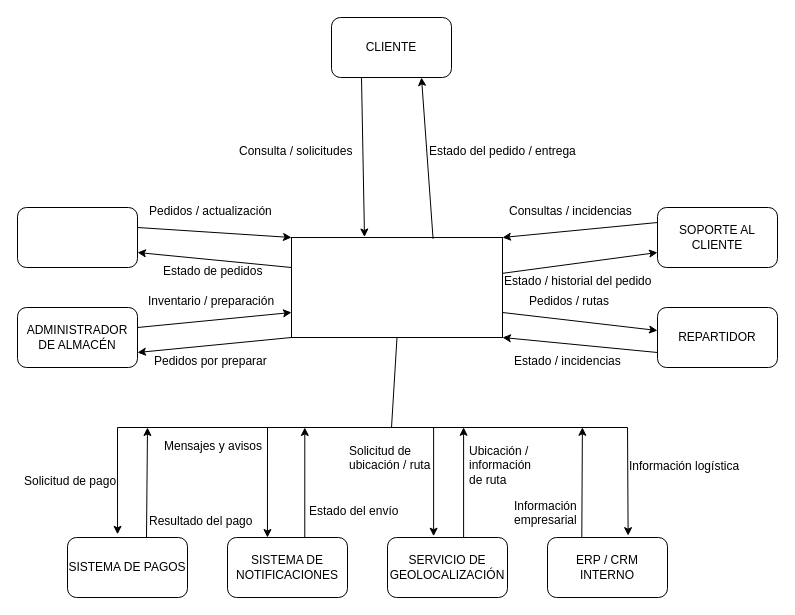
Some shapes in this 795 by 615 pixel diagram are drawn without their labels. Each missing label, with the centre of its shape:
"OPERADOR DE COMERCIO / TIENDA" goes at pixel 77 237.
"PLATAFORMA DE GESTIÓN LOGÍSTICA DE ÚLTIMA MILLA" goes at pixel 396 287.
